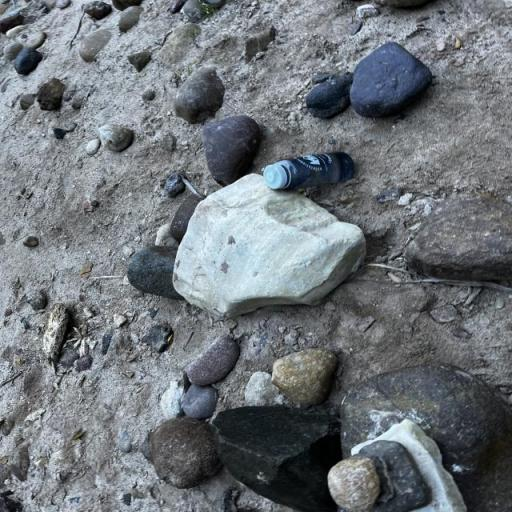bottle: (264, 150, 358, 192)
